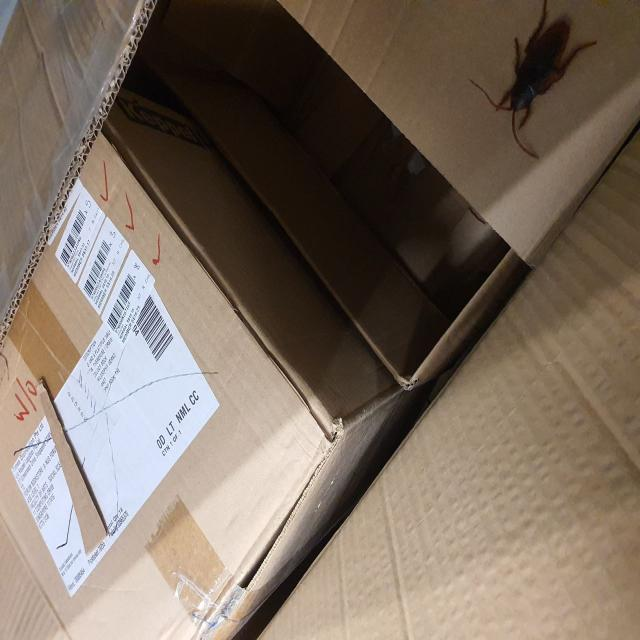Cockroach: (465, 4, 599, 168)
